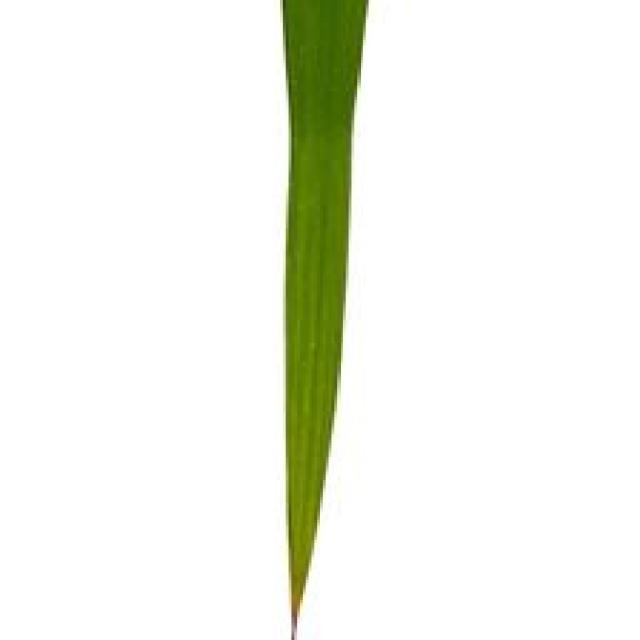Rice___Healthy_Rice_Plant: (282, 0, 371, 637)
